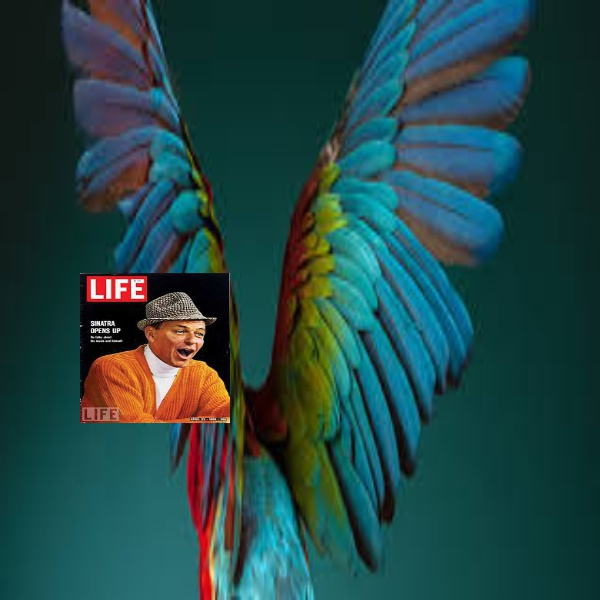time_cover: (78, 276, 224, 427)
